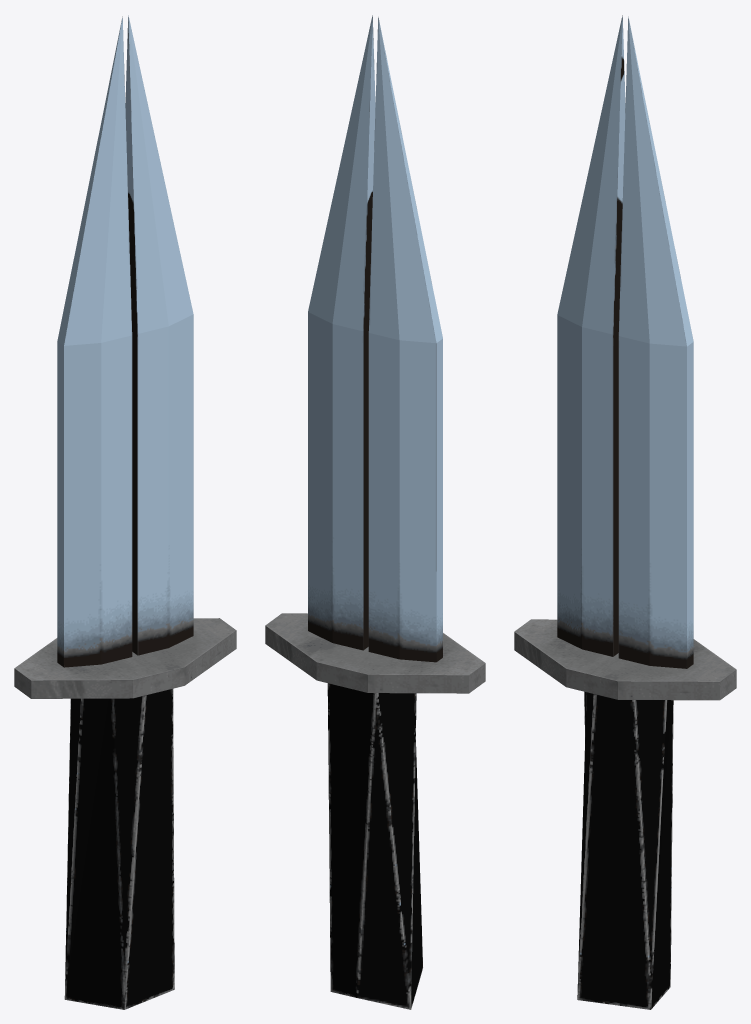
Rendered from knife.fbx.
3 views of the same model, side by side, from view 1: azimuth 30°, elevation 25°; view 2: azimuth 150°, elevation 25°; view 3: azimuth 330°, elevation 25° (orthographic).
Parts seen in each view (by area): view 1: knife; view 2: knife; view 3: knife.
Boxes of the visible parts, x1,y1,x2,y2 form: knife: [14, 15, 236, 1009]; knife: [265, 15, 485, 1009]; knife: [514, 15, 736, 1009].
Bounding box in the file's own units: 61.41 × 281 × 34.5.
